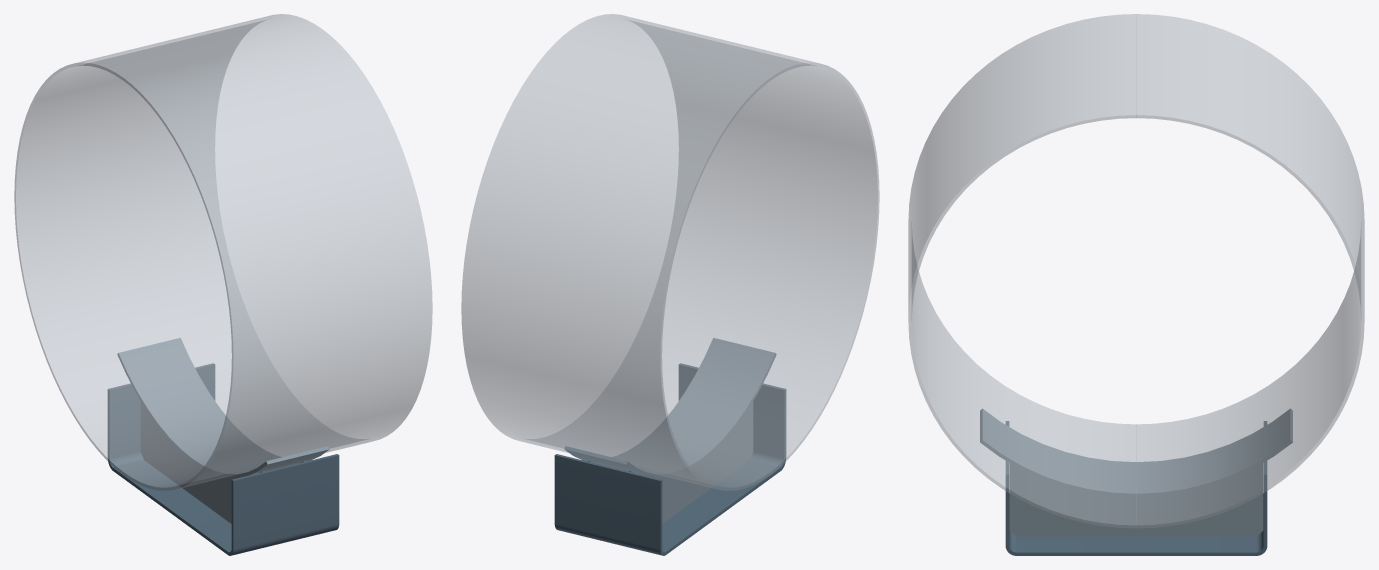
Rendered from TS-624.000-067-opora-dn1220-H150-L340.glb.
3 views of the same model, side by side, from view 1: azimuth 30°, elevation 25°; view 2: azimuth 150°, elevation 25°; view 3: azimuth 270°, elevation 25° (orthographic). The views are drawn at different scales.
Parts seen in each view (by area): view 1: truba, skoba, podushka_0, rebro3_0; view 2: truba, skoba, podushka_0, rebro3_0; view 3: truba, rebro3_1, podushka_0, skoba.
Part boxes in pixels (x1,y1,x2,y2): truba: [14, 14, 432, 490]; skoba: [107, 363, 339, 555]; podushka_0: [117, 338, 329, 477]; rebro3_0: [140, 401, 264, 523]; truba: [461, 14, 879, 490]; skoba: [554, 363, 786, 555]; podushka_0: [564, 338, 776, 477]; rebro3_0: [629, 401, 753, 523]; truba: [908, 14, 1364, 528]; rebro3_1: [1009, 463, 1263, 536]; podushka_0: [980, 408, 1292, 496]; skoba: [1005, 421, 1267, 555].
Size of the model in its own units: 640 by 1371 by 1220.
